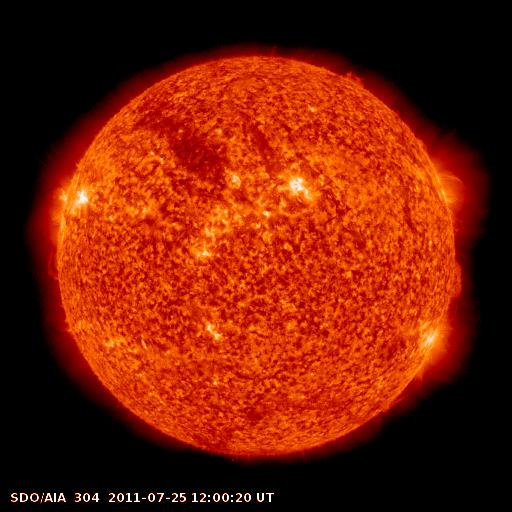prominence: (440, 258, 470, 302), (40, 245, 70, 285), (336, 59, 369, 94)
